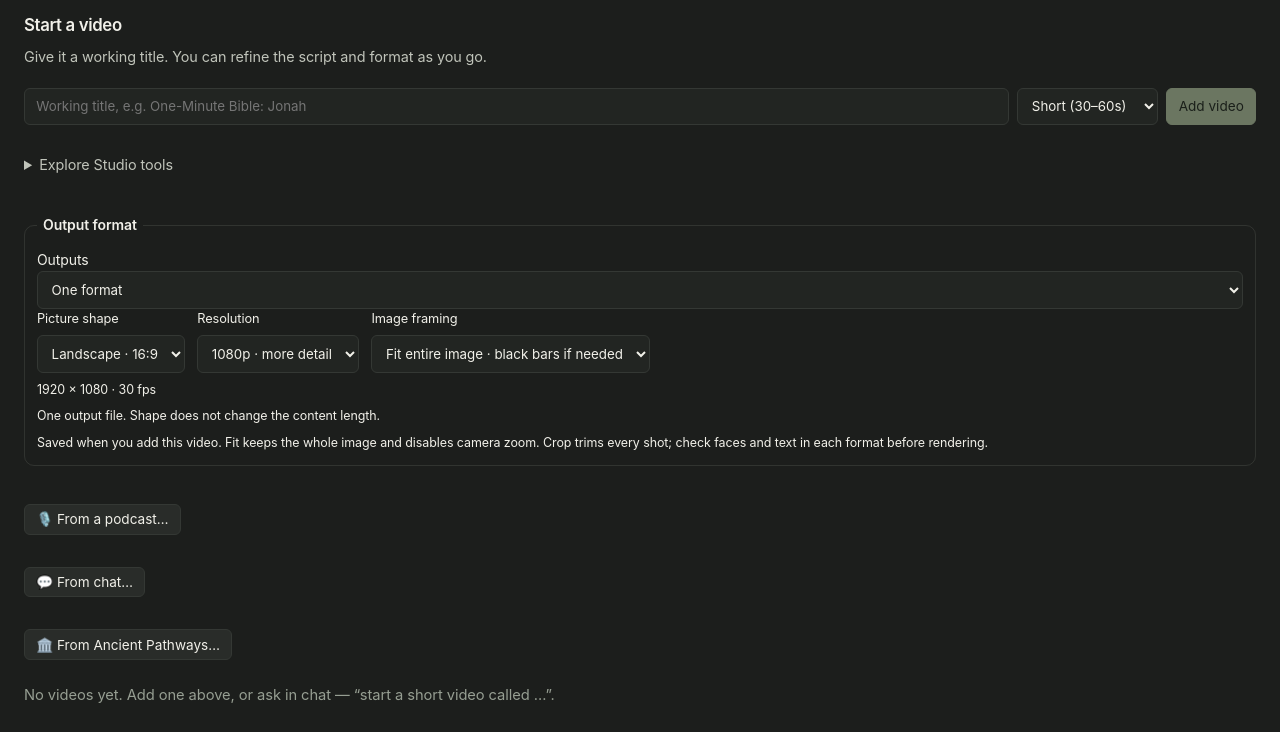
Scenario: Media Studio — From Ancient Pathways › loads and displays episode list when opened
(page scrolled)
Click the button "From Ancient Pathways…".
click(128, 645)  # box [24, 629, 232, 660]
(page scrolled)
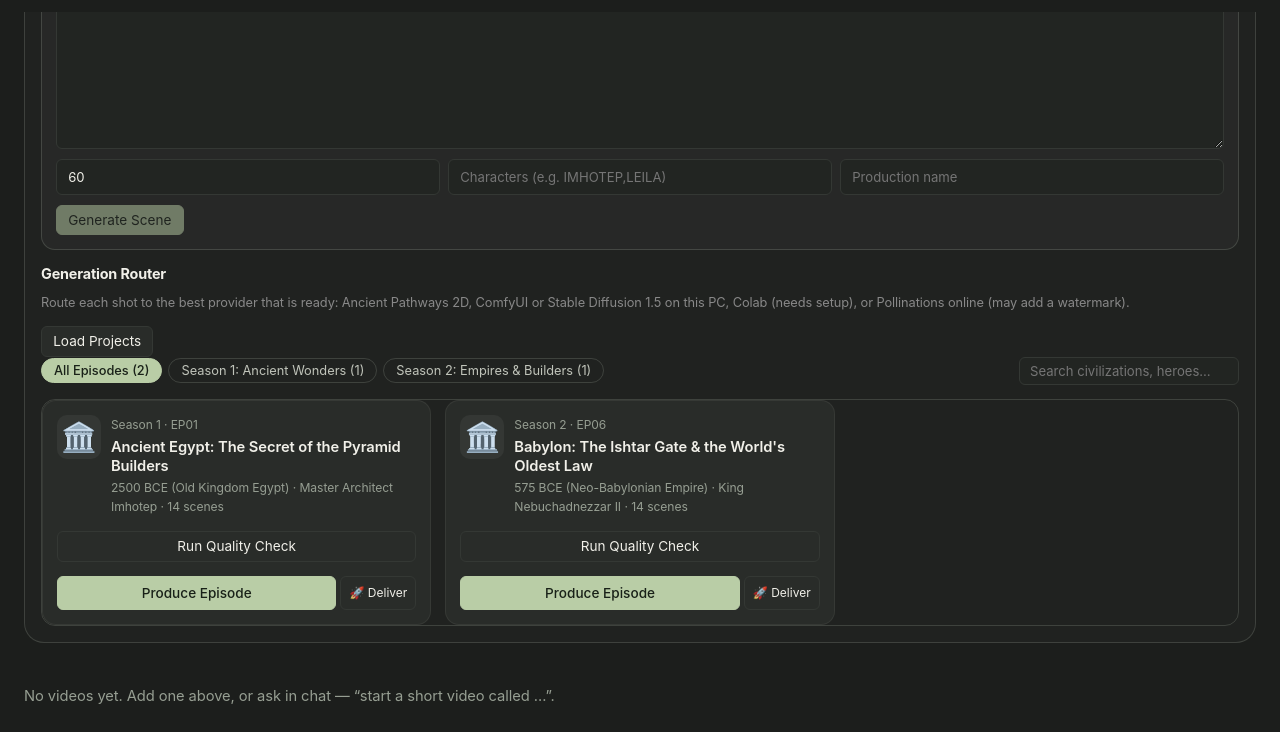
Result: the text "Ancient Egypt: The Secret of the Pyramid Builders" is shown at [111, 438, 416, 476]
Result: the text "Babylon: The Ishtar Gate & the World's Oldest Law" is shown at [514, 438, 820, 476]
